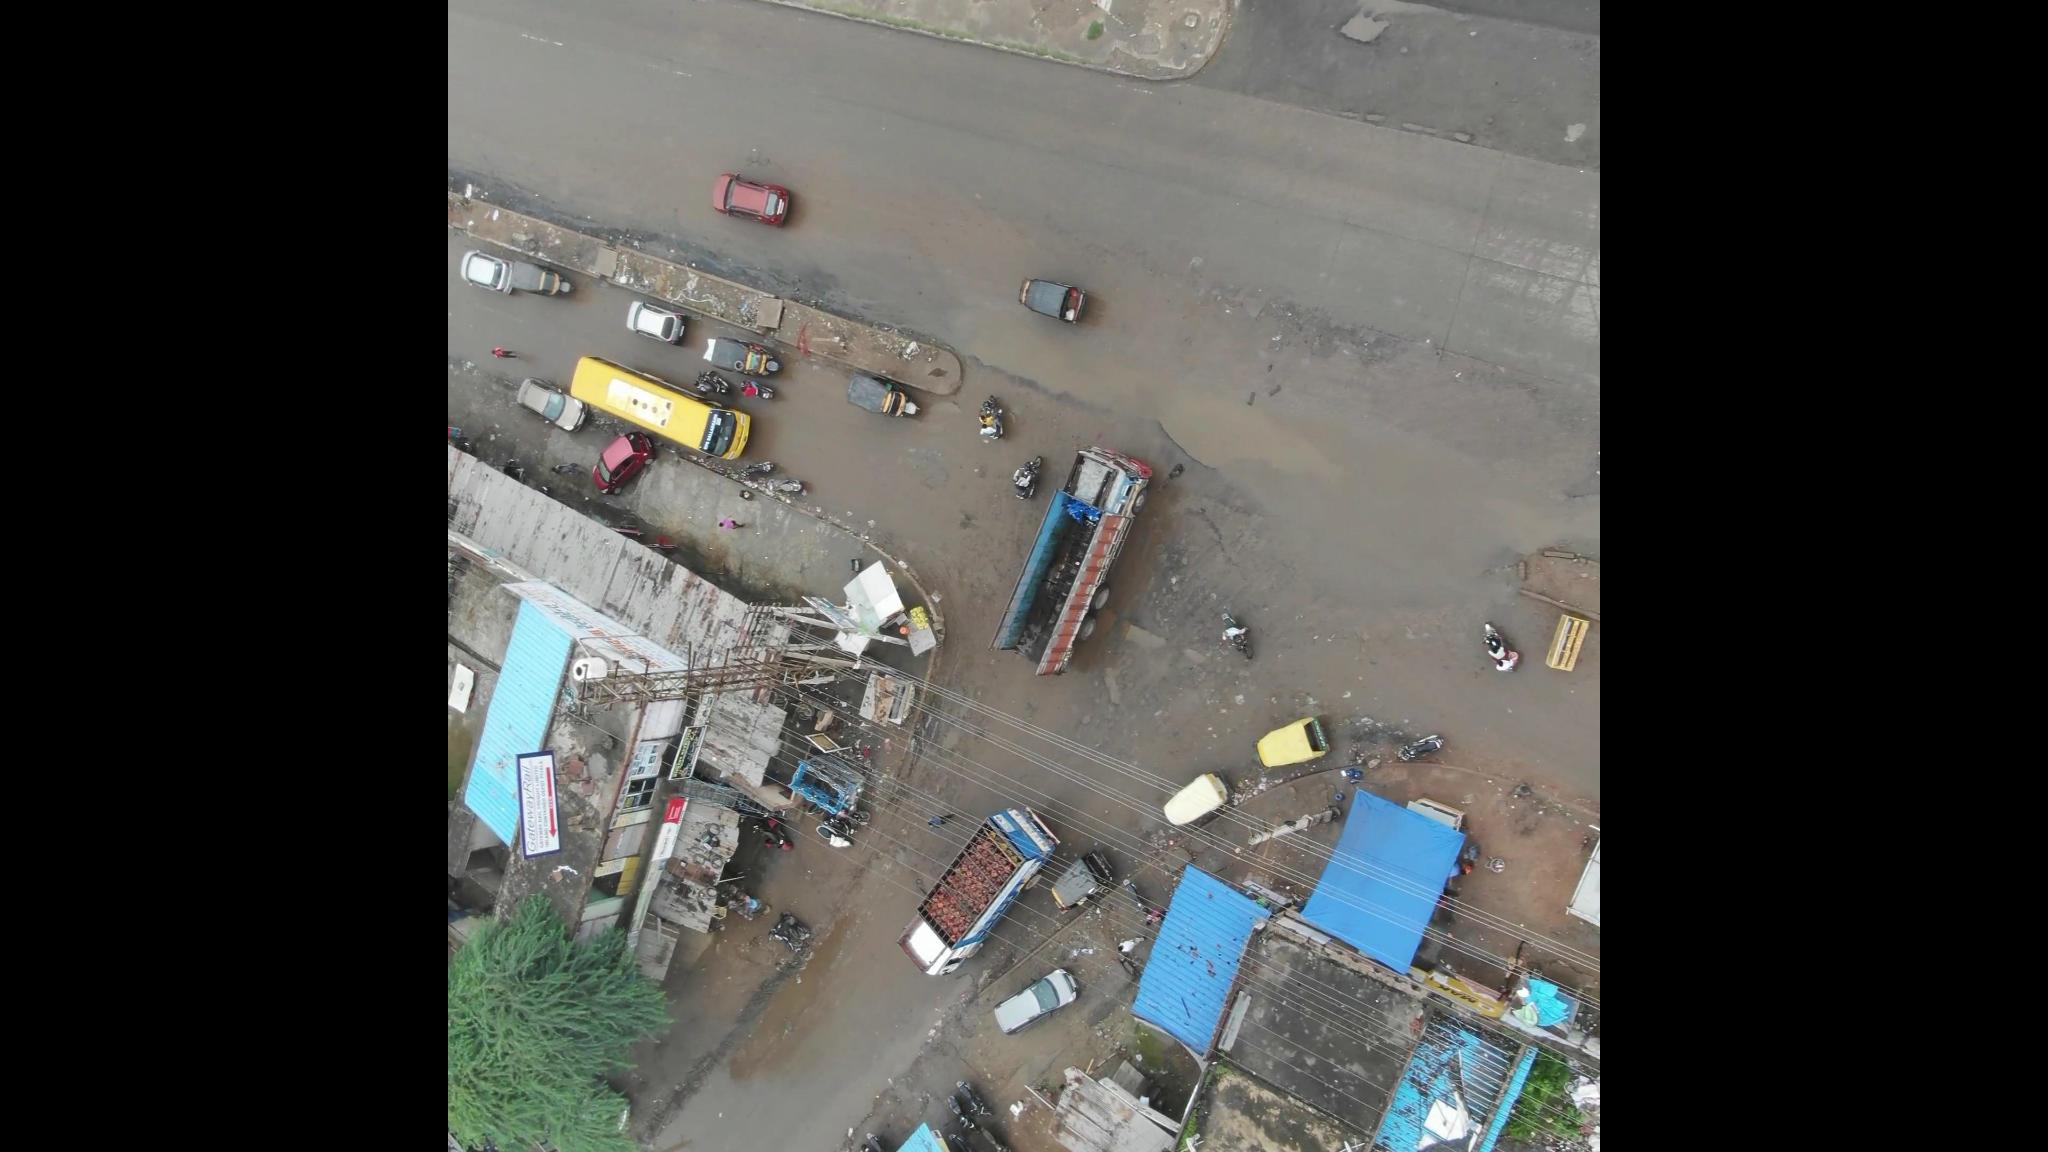Potholes: (1151, 357, 1333, 498), (940, 321, 1146, 443)
Waterlogging: (712, 911, 872, 1101)
